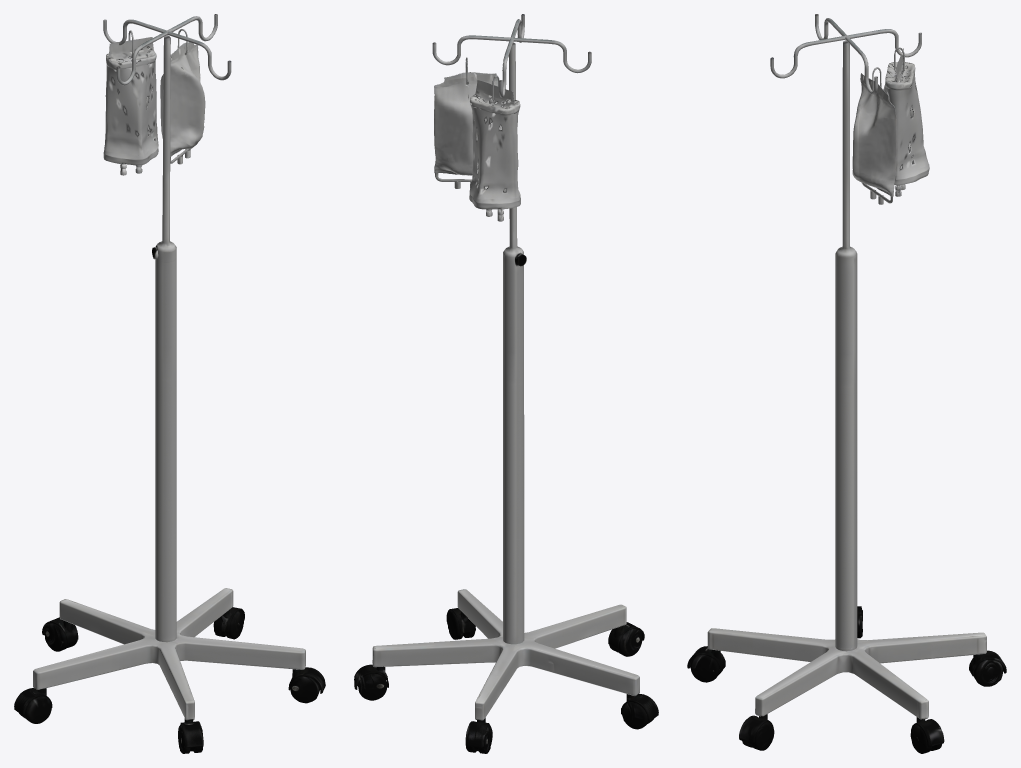
3 views of the same model, side by side, from view 1: azimuth 30°, elevation 25°; view 2: azimuth 150°, elevation 25°; view 3: azimuth 270°, elevation 25° (orthographic).
Parts seen in each view (by area): view 1: tripo_node_246d88e7; view 2: tripo_node_246d88e7; view 3: tripo_node_246d88e7.
Boxes of the visible parts, x1=… form: tripo_node_246d88e7: x1=14, y1=14, x2=325, y2=753; tripo_node_246d88e7: x1=354, y1=14, x2=658, y2=753; tripo_node_246d88e7: x1=687, y1=14, x2=1006, y2=753.
Size of the model in its own units: 0.4194 by 0.9995 by 0.4351.
1 material, 1 textured.
